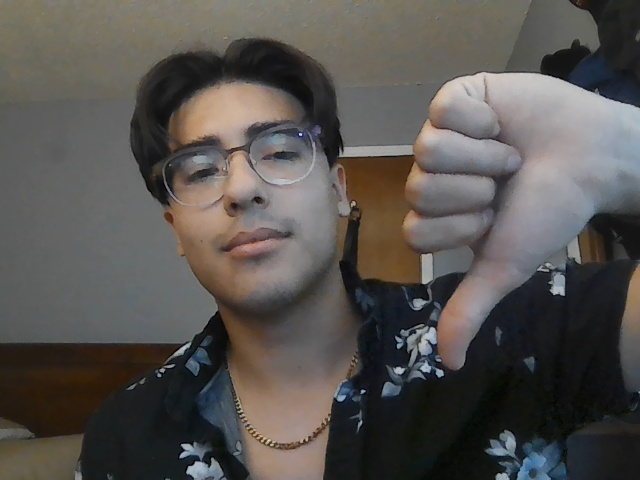ThumbsDown: (401, 71, 640, 370)
person: (130, 38, 352, 310)
